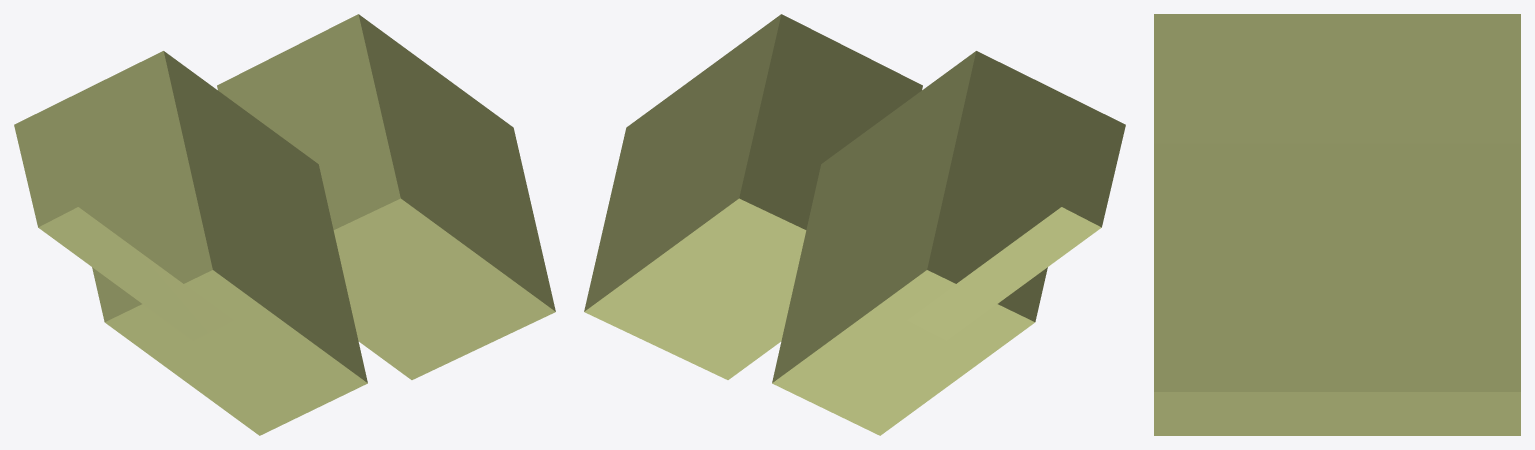
3 renders of one model, left to right at view 1: azimuth 30°, elevation 25°; view 2: azimuth 150°, elevation 25°; view 3: azimuth 270°, elevation 25°, orthographic. The views are drawn at different scales.
Visible parts, largest first — view 1: 0_1_2_0_3_3_0_3_2_2; view 2: 0_1_2_0_3_3_0_3_2_2; view 3: 0_1_2_0_3_3_0_3_2_2.
Part boxes in pixels (left/top/right/bottom): 0_1_2_0_3_3_0_3_2_2: left=14, top=14, right=555, bottom=435; 0_1_2_0_3_3_0_3_2_2: left=584, top=14, right=1125, bottom=435; 0_1_2_0_3_3_0_3_2_2: left=1154, top=14, right=1520, bottom=435.
Bounding box in the file's own units: 12.96 × 8.24 × 9.
